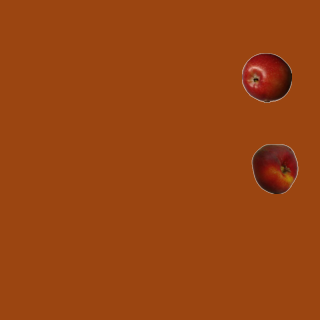Apple Braeburn: (241, 52, 291, 102)
Nectarine Flat: (249, 143, 299, 193)
